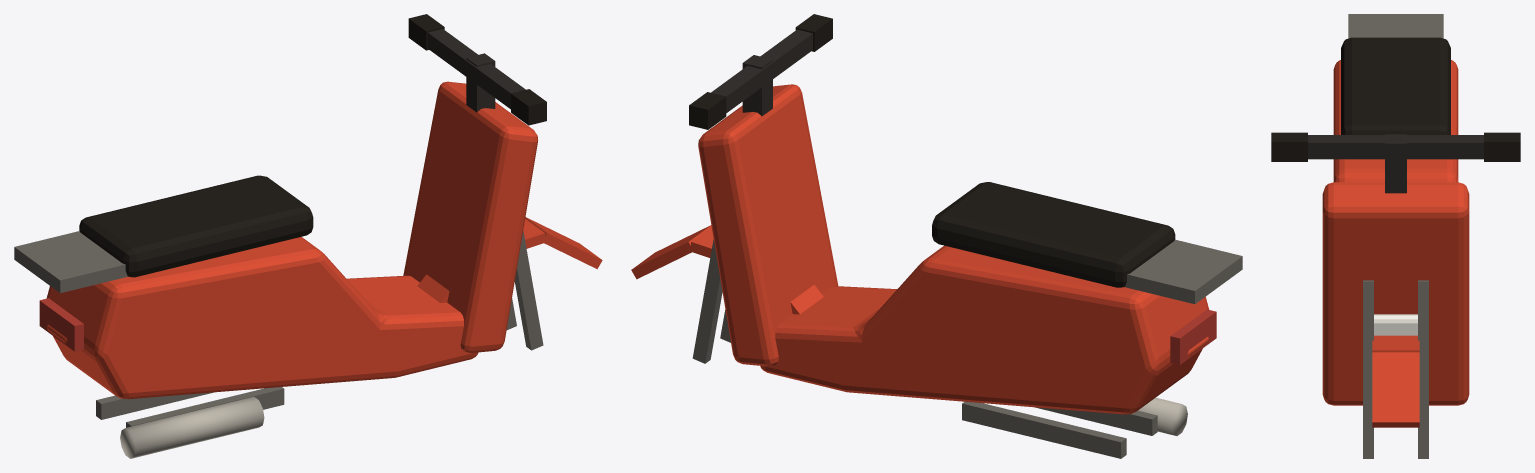
Rendered from VH_Moped.glb.
3 renders of one model, left to right at view 1: azimuth 30°, elevation 25°; view 2: azimuth 150°, elevation 25°; view 3: azimuth 270°, elevation 25°, orthographic. The views are drawn at different scales.
Visible parts, largest first — view 1: Cube; view 2: Cube; view 3: Cube.
Part boxes in pixels (x1,y1,x2,y2): Cube: (14,14,602,458); Cube: (631,14,1242,458); Cube: (1271,14,1520,458).
Bounding box in the file's own units: 1.81 × 0.8997 × 0.68.
